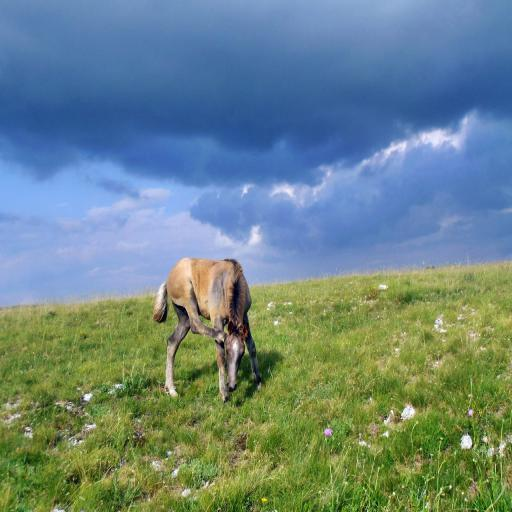Horse: (152, 259, 264, 404)
